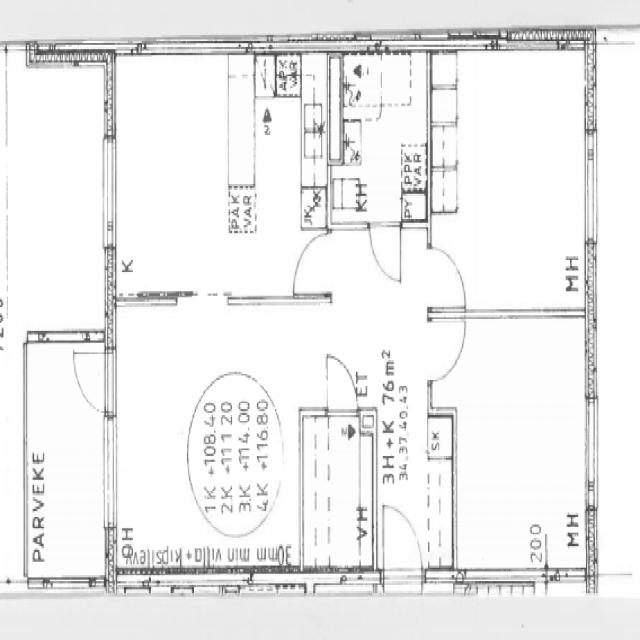door: (378, 501, 425, 591), (289, 228, 333, 302), (427, 242, 468, 316), (427, 310, 467, 384), (70, 346, 111, 414), (322, 349, 360, 421), (367, 216, 404, 288)
window: (579, 121, 604, 255), (99, 129, 121, 256), (100, 412, 122, 538), (580, 395, 602, 513), (44, 571, 97, 599), (247, 568, 294, 596), (547, 566, 588, 592)
zone: (111, 52, 332, 300), (432, 46, 594, 318), (427, 313, 591, 572), (25, 340, 108, 589), (328, 52, 431, 226), (300, 410, 376, 573)
